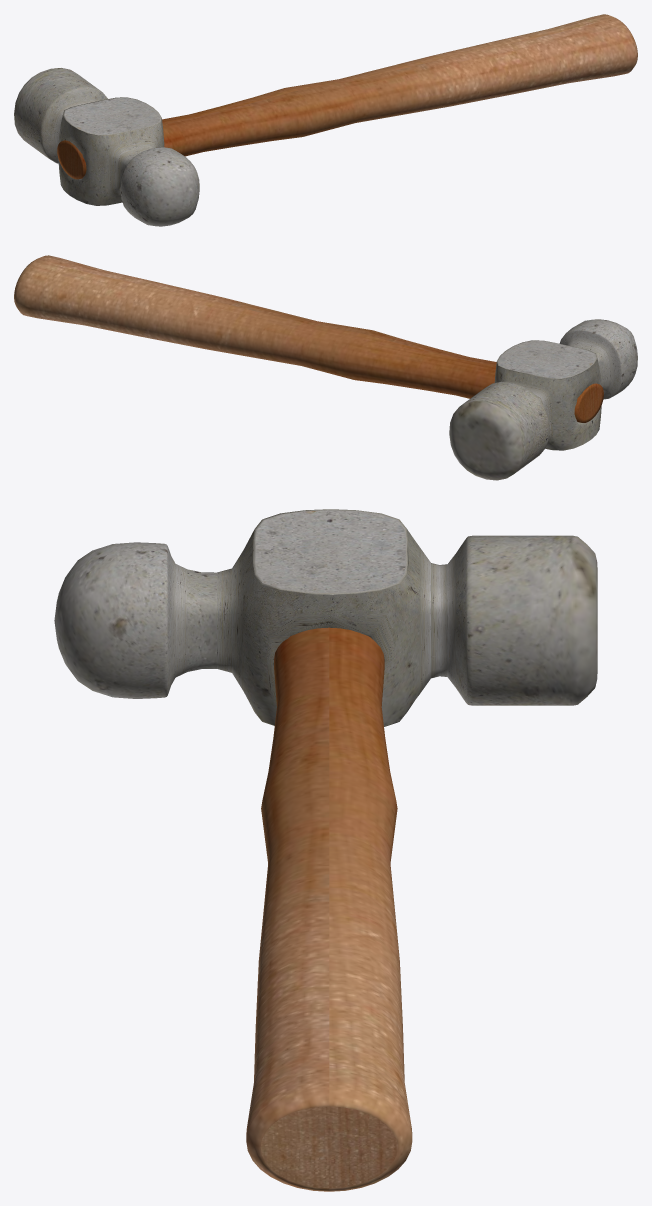
Rendered from hammer.glb.
3 renders of one model, top to bottom at view 1: azimuth 30°, elevation 25°; view 2: azimuth 150°, elevation 25°; view 3: azimuth 270°, elevation 25°, orthographic. The views are drawn at different scales.
Parts seen in each view (by area): view 1: Cylinder, Cube; view 2: Cylinder, Cube; view 3: Cube, Cylinder.
Boxes of the visible parts, x1,y1,x2,y2 form: Cylinder: (57,14,637,179); Cube: (14,68,199,226); Cylinder: (14,255,603,422); Cube: (449,319,637,480); Cube: (54,509,597,726); Cylinder: (246,627,412,1191).
Size of the model in its own units: 0.4632 by 0.0629 by 0.1977.
Materials: 2 (2 with a texture image).
